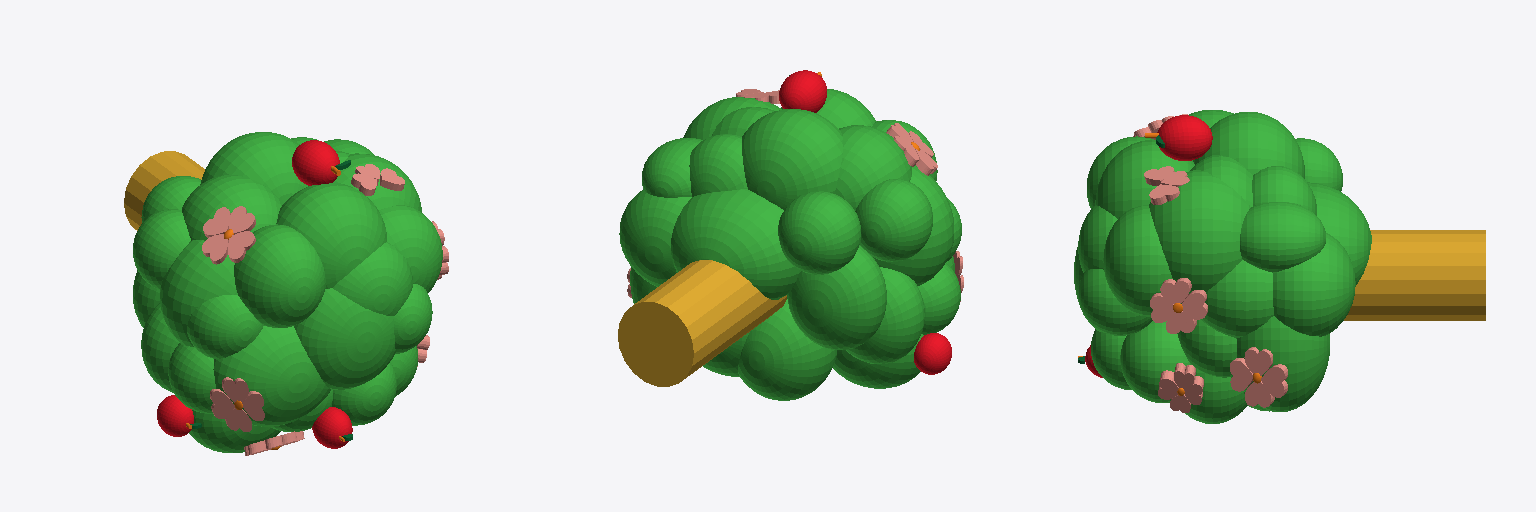
Rendered from tinker.obj.
The picture shows the model from 3 angles: view 1: azimuth 30°, elevation 25°; view 2: azimuth 150°, elevation 25°; view 3: azimuth 270°, elevation 25°; orthographic projection.
Parts seen in each view (by area): view 1: obj_0; view 2: obj_0; view 3: obj_0.
Part boxes in pixels (x1,y1,x2,y2): obj_0: (124, 132, 448, 455); obj_0: (618, 70, 963, 400); obj_0: (1074, 110, 1485, 423).
Bounding box in the file's own units: 76 × 76 × 98.